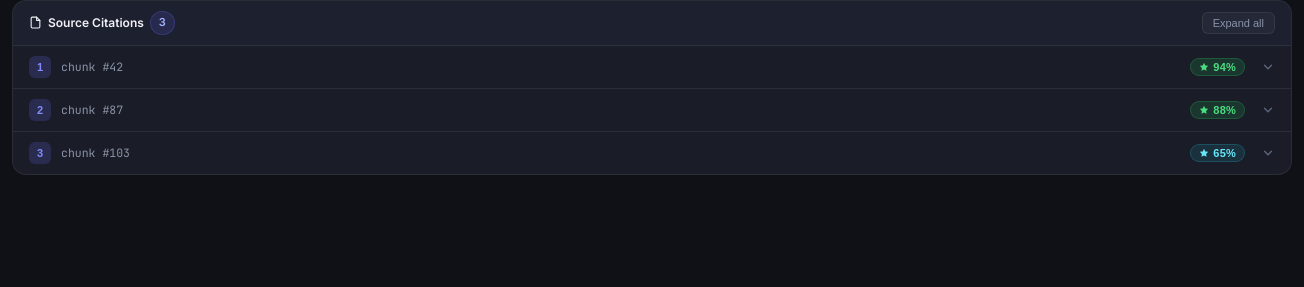
Test: CitationList Component › allows multiple cards to be expanded simultaneously
Expand both cards
Click the button "1 chunk #42 94%" at (85, 67), box [13,46,1291,88]
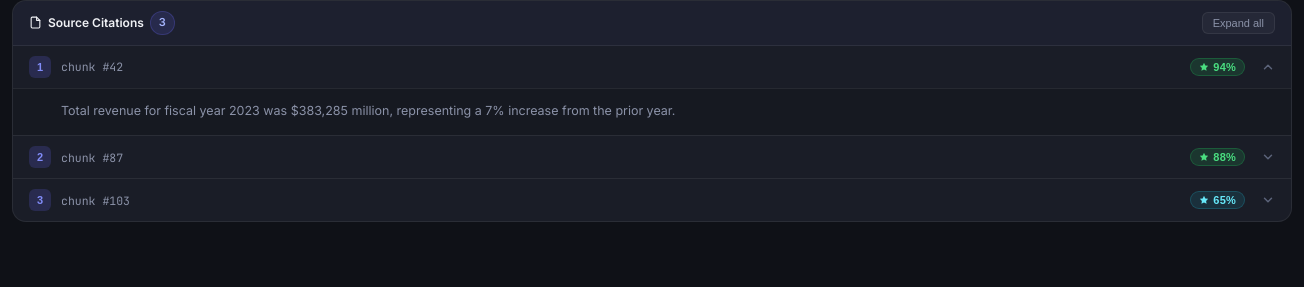
Click the button "2 chunk #87 88%" at (85, 157), box [13,136,1291,178]
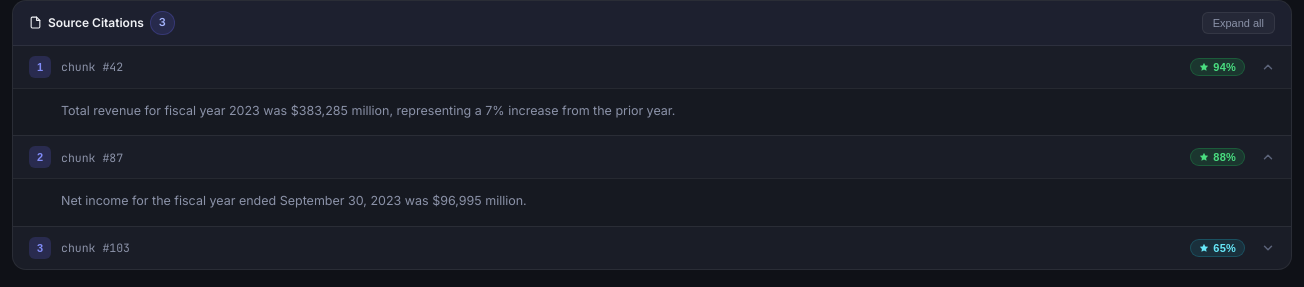
Now the text "Total revenue for fiscal year 2023" is shown, box [61,103,675,118]
Now the text "Net income for the fiscal year" is shown, box [61,193,527,208]
